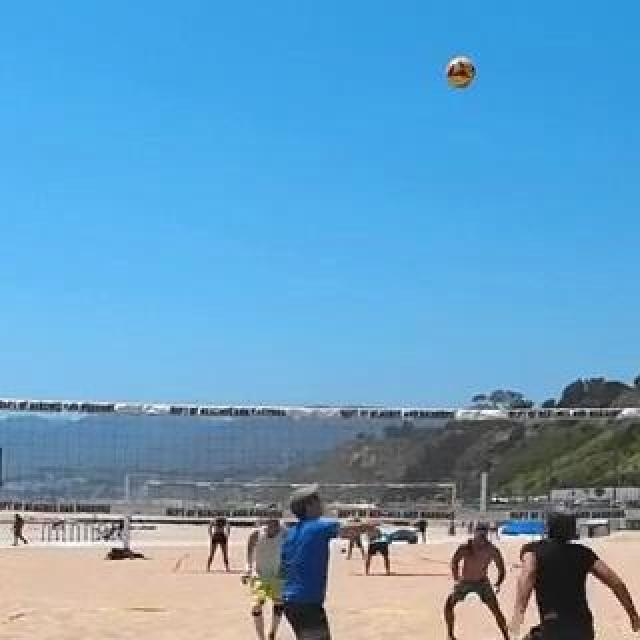volleyball: (446, 57, 476, 87)
